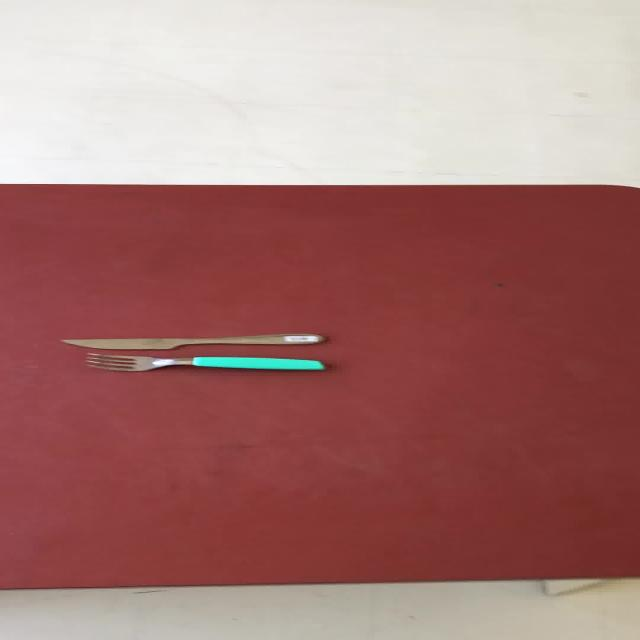fork: (82, 352, 326, 371)
knife fork: (56, 332, 326, 350)
